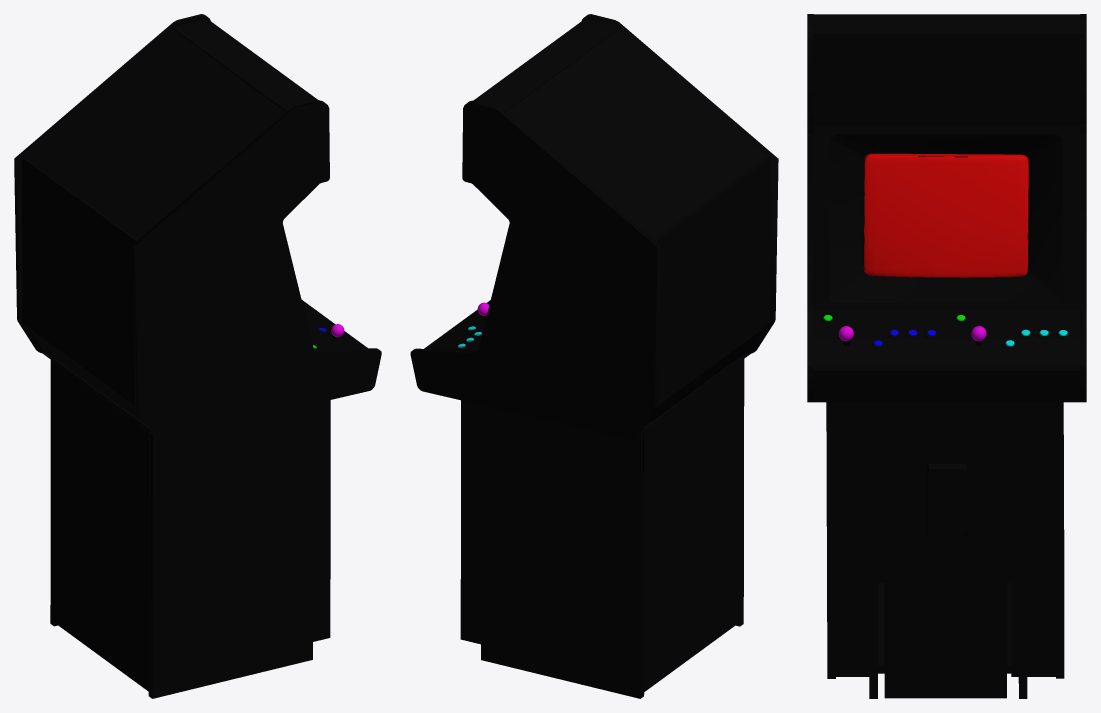
The model's file is SM_Golden_Cabinet.fbx.
The picture shows the model from 3 angles, left to right: view 1: azimuth 30°, elevation 25°; view 2: azimuth 150°, elevation 25°; view 3: azimuth 270°, elevation 25°; orthographic projection. The views are drawn at different scales.
Visible parts, largest first — view 1: back_003; view 2: back_003; view 3: back_003.
Boxes of the visible parts, x1,y1,x2,y2 form: back_003: (14, 14, 381, 698); back_003: (410, 14, 778, 698); back_003: (807, 14, 1086, 698).
Size of the model in its own units: 0.7745 by 1.69 by 0.6565.
